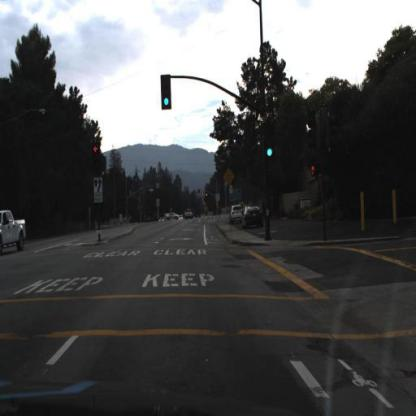car: (2, 209, 29, 259), (242, 206, 265, 231), (231, 205, 245, 224)
trafficLight: (93, 142, 102, 174)
trafficLight-Green: (161, 74, 173, 112), (264, 124, 276, 158)
